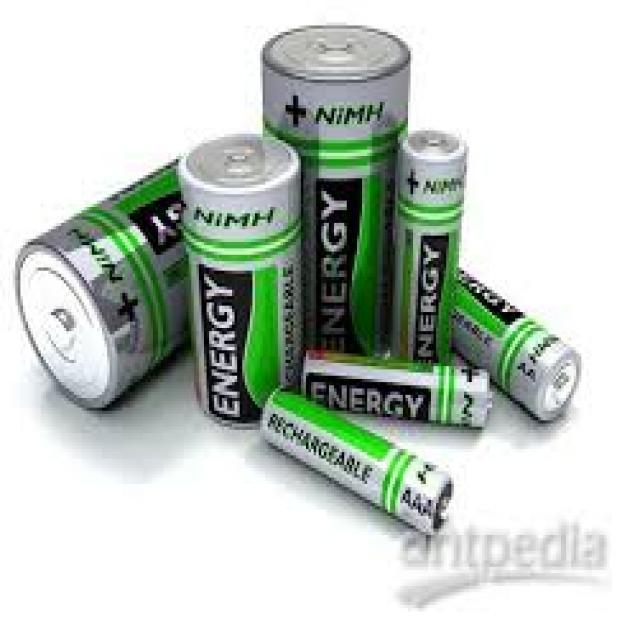battery: (262, 26, 410, 356), (16, 154, 194, 420), (179, 130, 302, 433), (259, 379, 456, 544), (454, 260, 586, 432), (390, 128, 467, 362), (301, 346, 495, 434)
